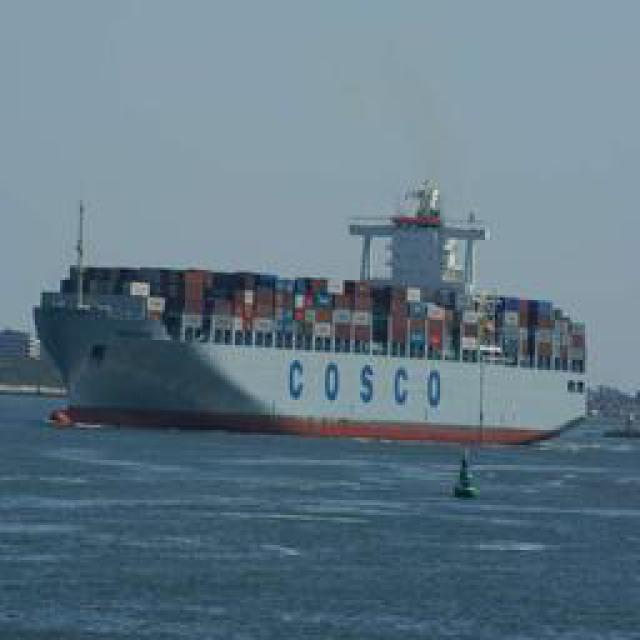Ship: (37, 179, 600, 444)
